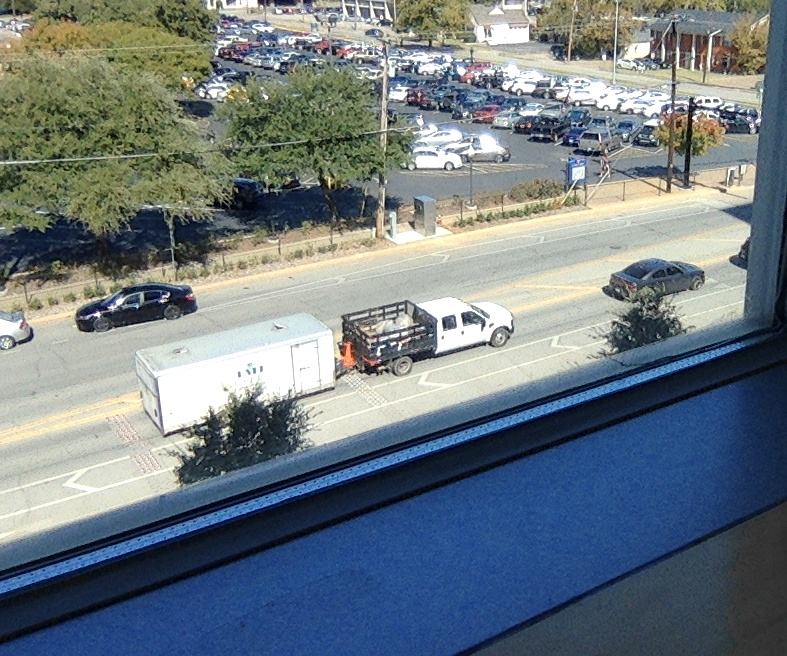car: (300, 300, 487, 392)
